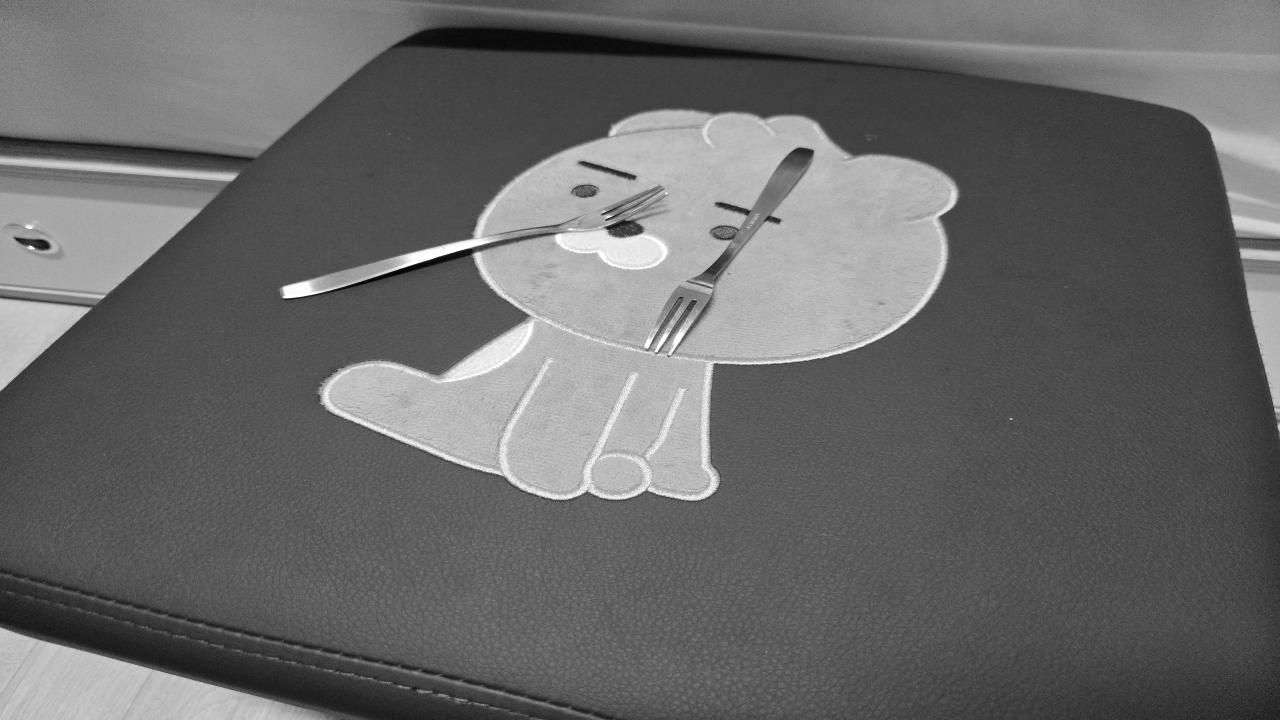fork: (280, 183, 669, 299), (645, 146, 817, 356)
